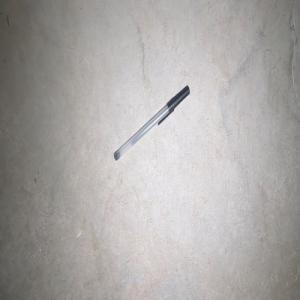Pen: (114, 85, 189, 160)
